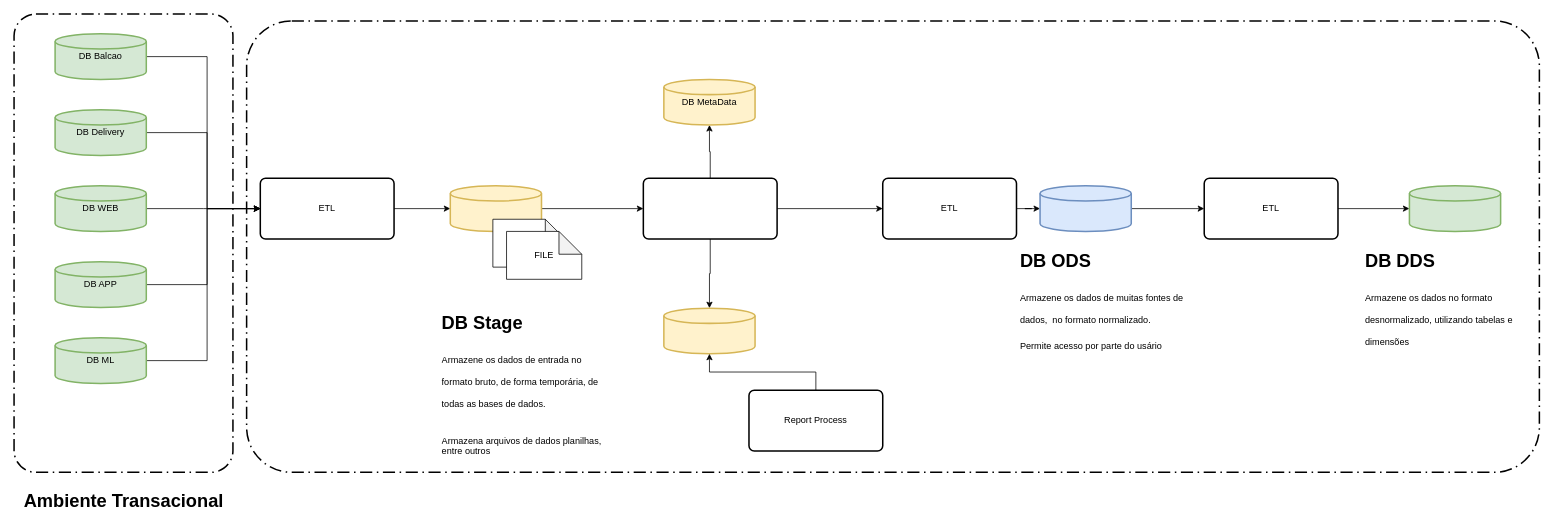
Image size: 1553x529. Some labels were removed from this diagram. Here are the shapes that lost their labels. From the top down, the box of each, then its label:
(449, 185, 542, 232): DB Stage
(642, 177, 777, 239): Data Firewall
(1039, 185, 1132, 232): DB ODS
(1408, 185, 1501, 232): DB DDS
(663, 307, 755, 354): DB Quality
